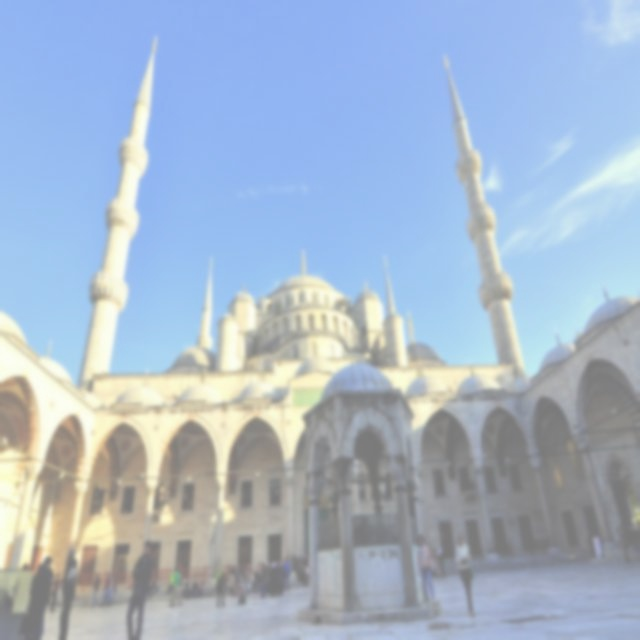pessoa: (124, 536, 154, 640), (22, 555, 52, 640), (57, 546, 80, 640), (454, 531, 476, 620), (416, 532, 437, 608), (37, 566, 54, 640), (168, 562, 184, 608), (168, 559, 182, 607), (48, 571, 63, 614), (214, 564, 226, 608), (98, 571, 112, 608), (232, 576, 248, 606), (436, 544, 448, 581), (629, 524, 640, 564), (102, 572, 114, 607), (619, 526, 630, 564), (259, 558, 268, 600), (91, 572, 101, 608), (275, 558, 284, 596), (270, 560, 278, 598), (282, 556, 290, 594), (107, 576, 117, 606), (429, 556, 441, 580), (268, 563, 276, 597), (244, 563, 252, 595), (252, 570, 262, 594), (190, 576, 200, 599), (228, 568, 235, 598), (146, 576, 154, 598), (165, 577, 174, 596), (221, 570, 227, 594), (234, 566, 241, 586), (265, 562, 269, 594), (242, 568, 248, 588), (198, 580, 204, 598), (304, 554, 308, 578), (150, 576, 155, 594), (615, 525, 619, 547), (22, 562, 29, 571), (299, 558, 306, 567), (298, 554, 303, 564)
